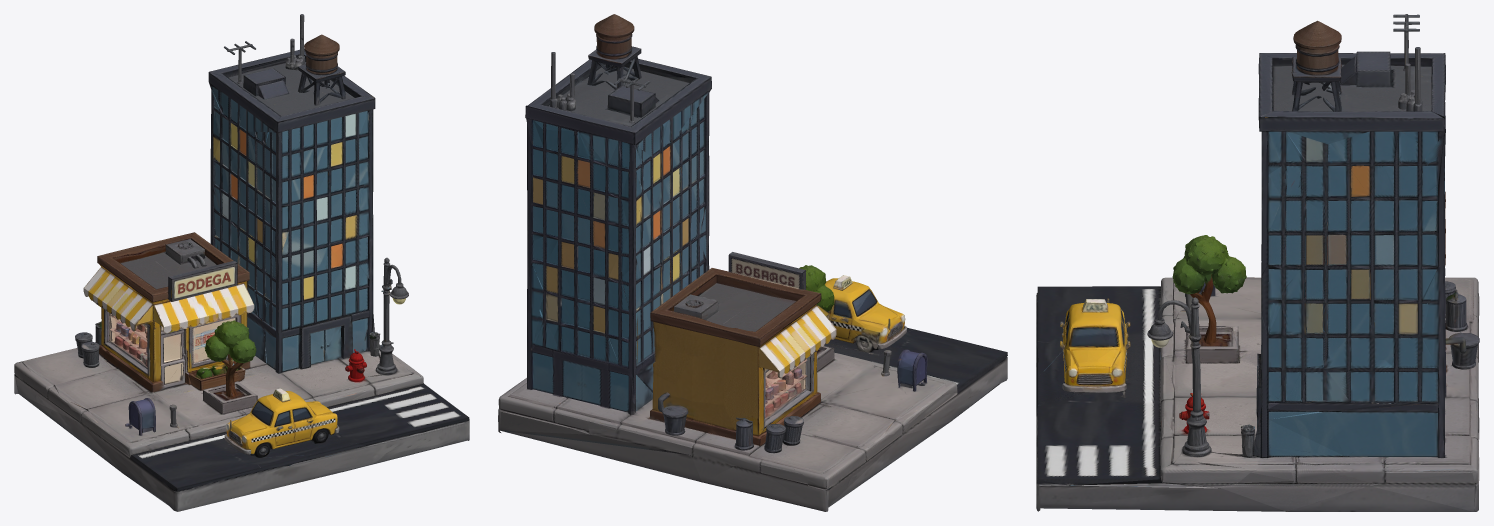
Rendered from nyc.glb.
3 views of the same model, side by side, from view 1: azimuth 30°, elevation 25°; view 2: azimuth 150°, elevation 25°; view 3: azimuth 270°, elevation 25° (orthographic). The views are drawn at different scales.
Size of the model in its own units: 1.72 by 1.9 by 1.65.
1 material, 1 textured.
